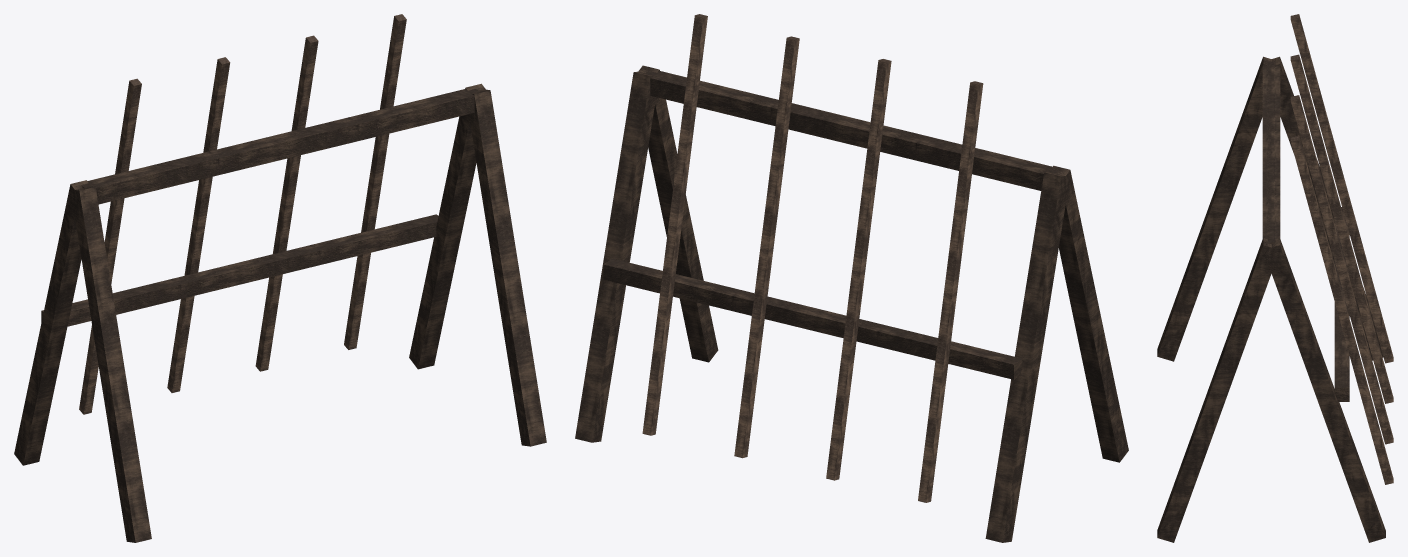
File: prop_training_rack.glb
3 renders of one model, left to right at view 1: azimuth 30°, elevation 25°; view 2: azimuth 150°, elevation 25°; view 3: azimuth 270°, elevation 25°, orthographic. The views are drawn at different scales.
Parts seen in each view (by area): view 1: prop_training_rack; view 2: prop_training_rack; view 3: prop_training_rack.
Boxes of the visible parts, box(x1,y1,x2,y2) form: prop_training_rack: box(14, 14, 546, 542); prop_training_rack: box(575, 14, 1128, 542); prop_training_rack: box(1157, 14, 1393, 542).
Bounding box in the file's own units: 1.77 × 1.63 × 0.9377.
2 materials, 2 textured.
